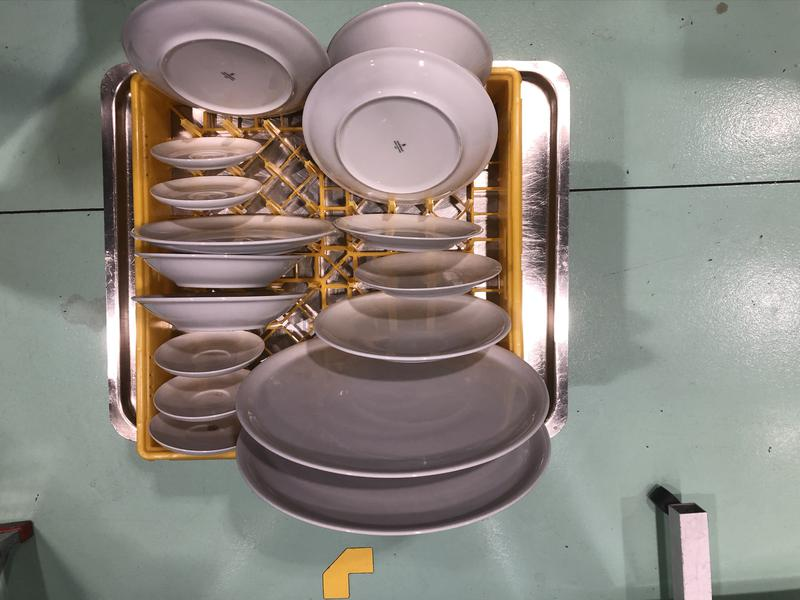Dish: (234, 339, 551, 474), (235, 430, 550, 538), (313, 290, 513, 361), (127, 212, 337, 256), (137, 250, 316, 290), (350, 251, 501, 296), (129, 297, 309, 330), (333, 215, 481, 251), (147, 330, 266, 371), (150, 174, 260, 213), (152, 377, 248, 419), (150, 410, 237, 453), (148, 137, 259, 169)
Inclined_dish: (299, 47, 502, 206), (121, 3, 326, 119), (326, 1, 490, 79)
